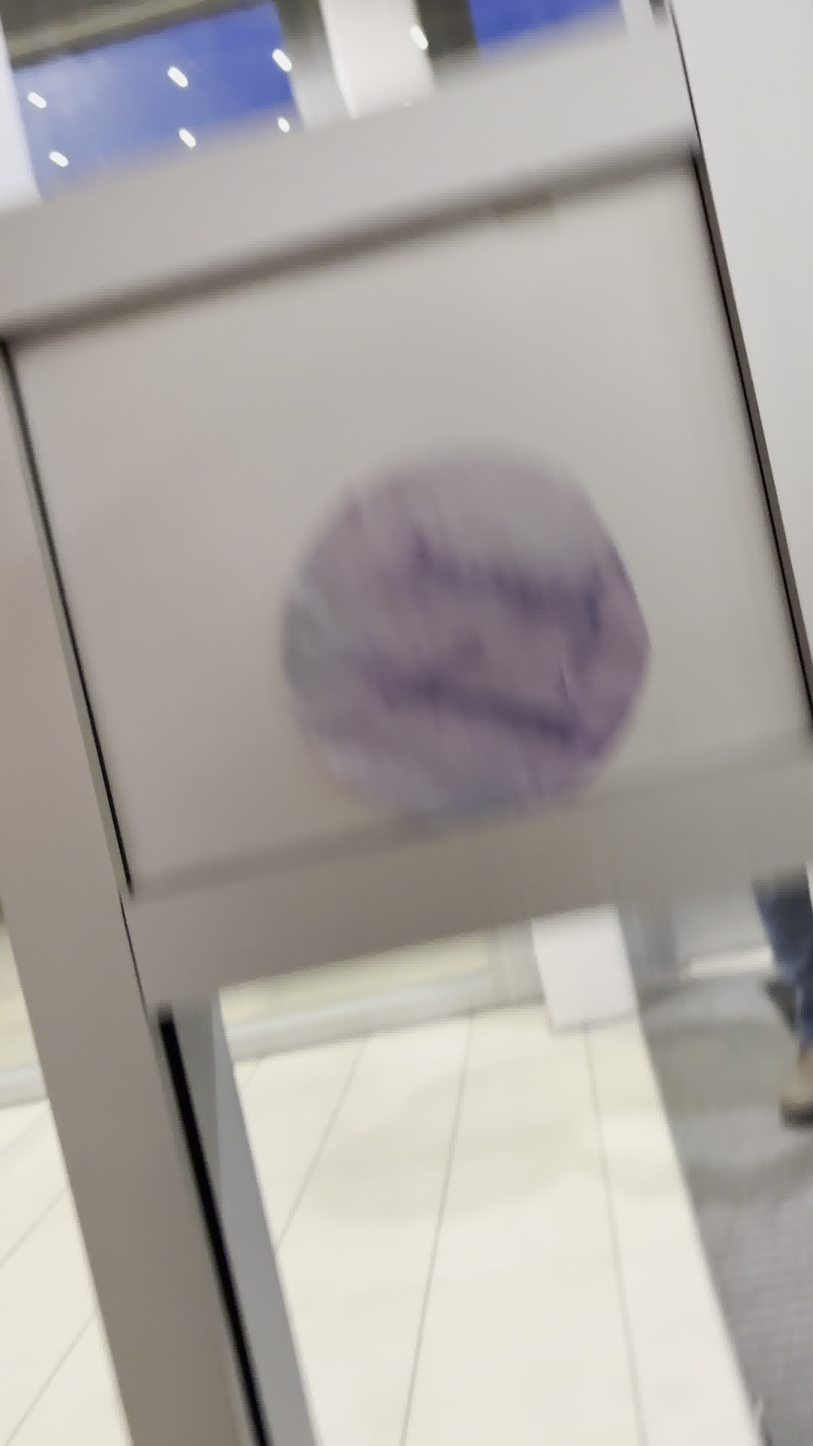Target: (263, 435, 663, 839)
